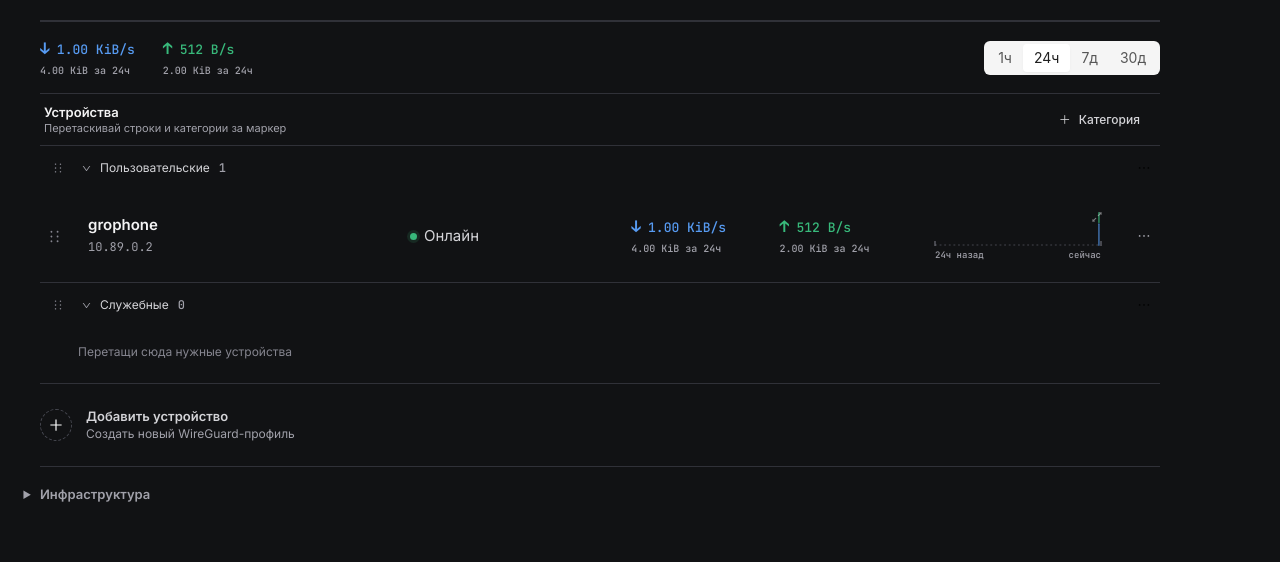
Test: WireGuardPage › keeps the actions menu aligned without the decorative key icon
The width and height of the screenshot is (1280, 562).
(page scrolled)
Click the button named "Действия grophone" at (1144, 236), box x1=1128 y1=220 x2=1160 y2=252
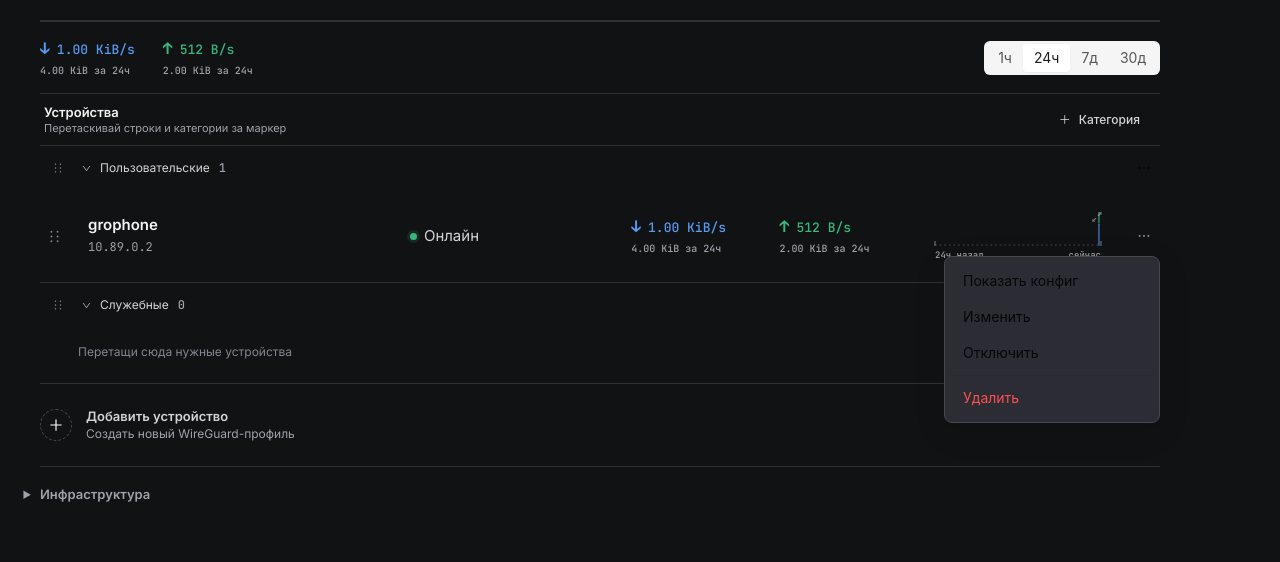
Result: the menu item "Показать конфиг" is shown at x1=963 y1=272 x2=1078 y2=289
Result: the menu item "Изменить" is shown at x1=963 y1=308 x2=1030 y2=325
